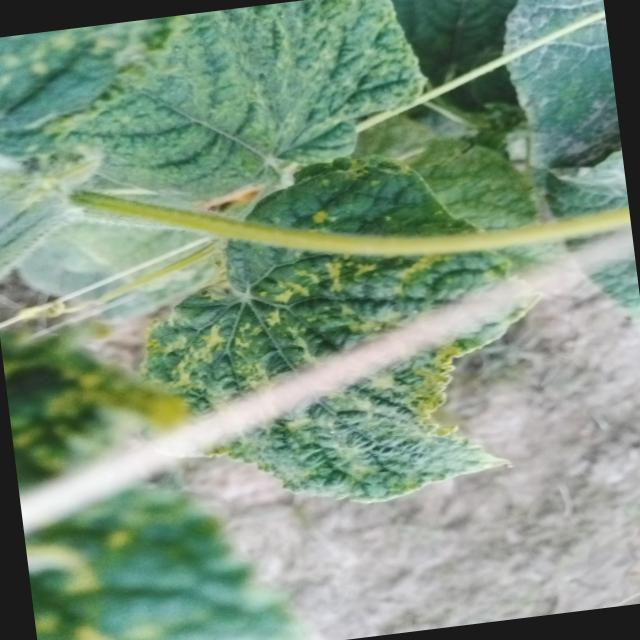cucumber_downy: (95, 132, 571, 533), (0, 0, 434, 225), (0, 304, 262, 640)
